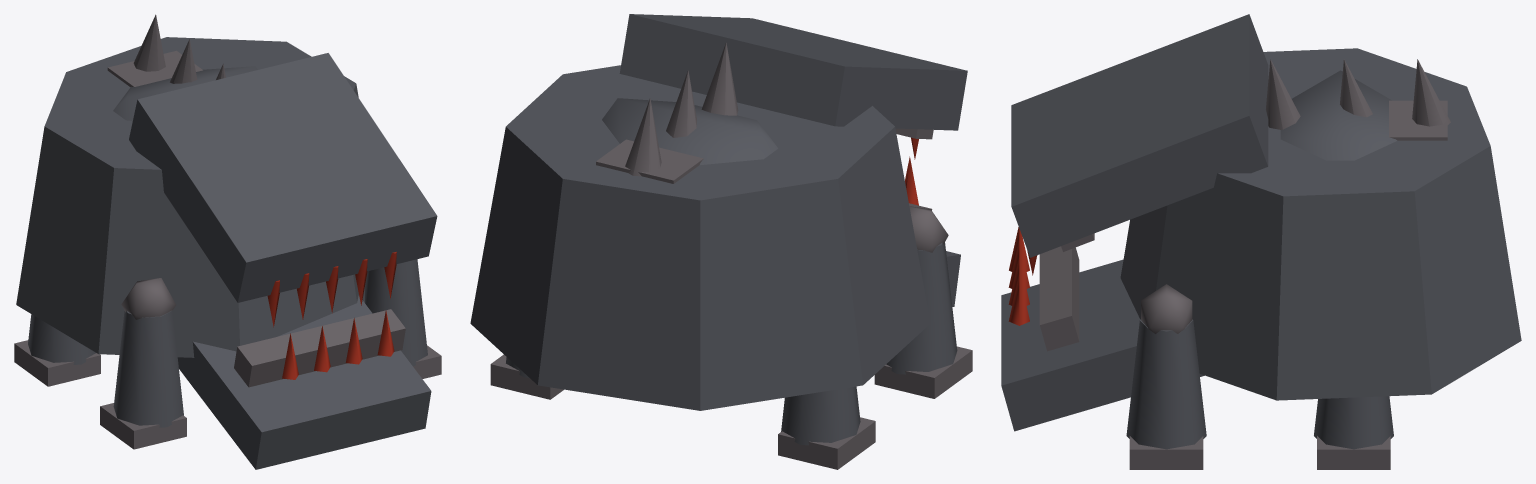
File: maw.glb
The picture shows the model from 3 angles, left to right: view 1: azimuth 30°, elevation 25°; view 2: azimuth 150°, elevation 25°; view 3: azimuth 270°, elevation 25°; orthographic projection. The views are drawn at different scales.
Visible parts, largest first — view 1: body, core; view 2: body; view 3: body, core.
Boxes of the visible parts, box(x1,y1,x2,y2) form: body: box(14, 14, 441, 469); core: box(267, 252, 396, 379); body: box(470, 14, 972, 469); body: box(1001, 14, 1521, 469); core: box(1008, 227, 1037, 325).
Size of the model in its own units: 0.98 by 0.86 by 1.23.
